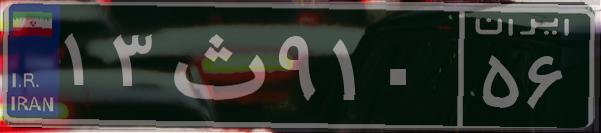0: (385, 28, 445, 110)
1: (330, 28, 385, 110), (57, 26, 110, 107)
3: (110, 28, 158, 105)
5: (475, 38, 525, 113)
6: (525, 38, 570, 115)
9: (273, 28, 330, 110)
ث: (158, 15, 273, 115)
